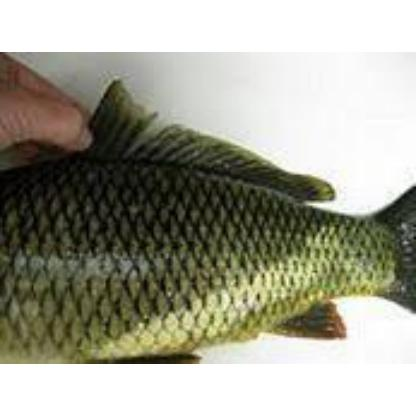ikan-mas: (0, 135, 416, 363)
